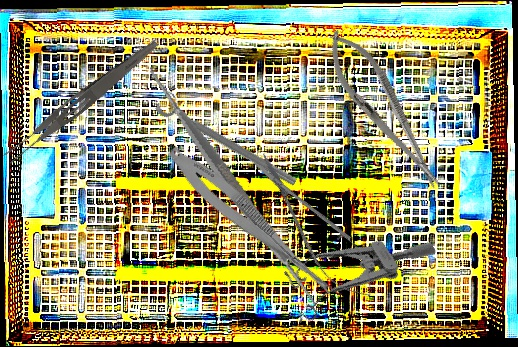Dressing Forceps: (0, 32, 162, 169)
Fixation Ring: (154, 88, 304, 190)
Micro Scissor: (159, 139, 351, 308), (240, 143, 388, 310)
Needle Holder: (313, 20, 455, 200)
Spatula Surgical: (98, 53, 368, 323)
Speculum: (272, 196, 437, 336)
